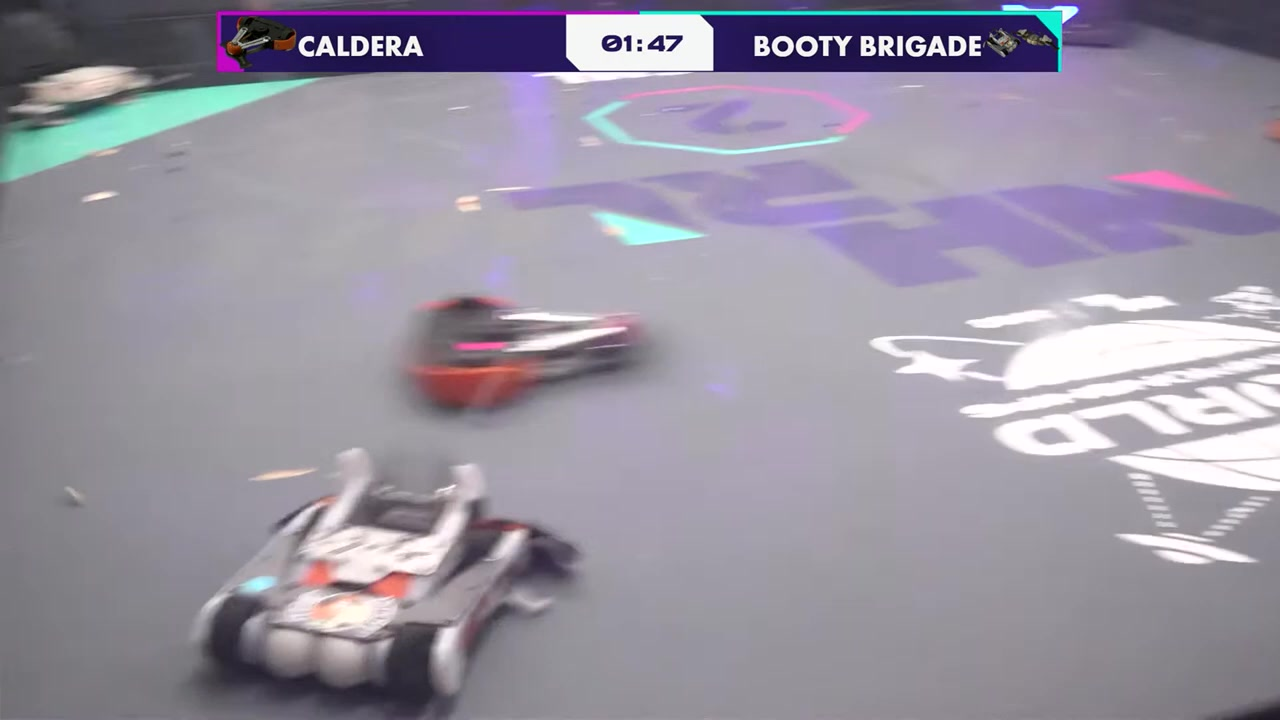combatbot: (191, 484, 537, 699), (418, 295, 637, 407)
housebot: (995, 0, 1123, 47)
